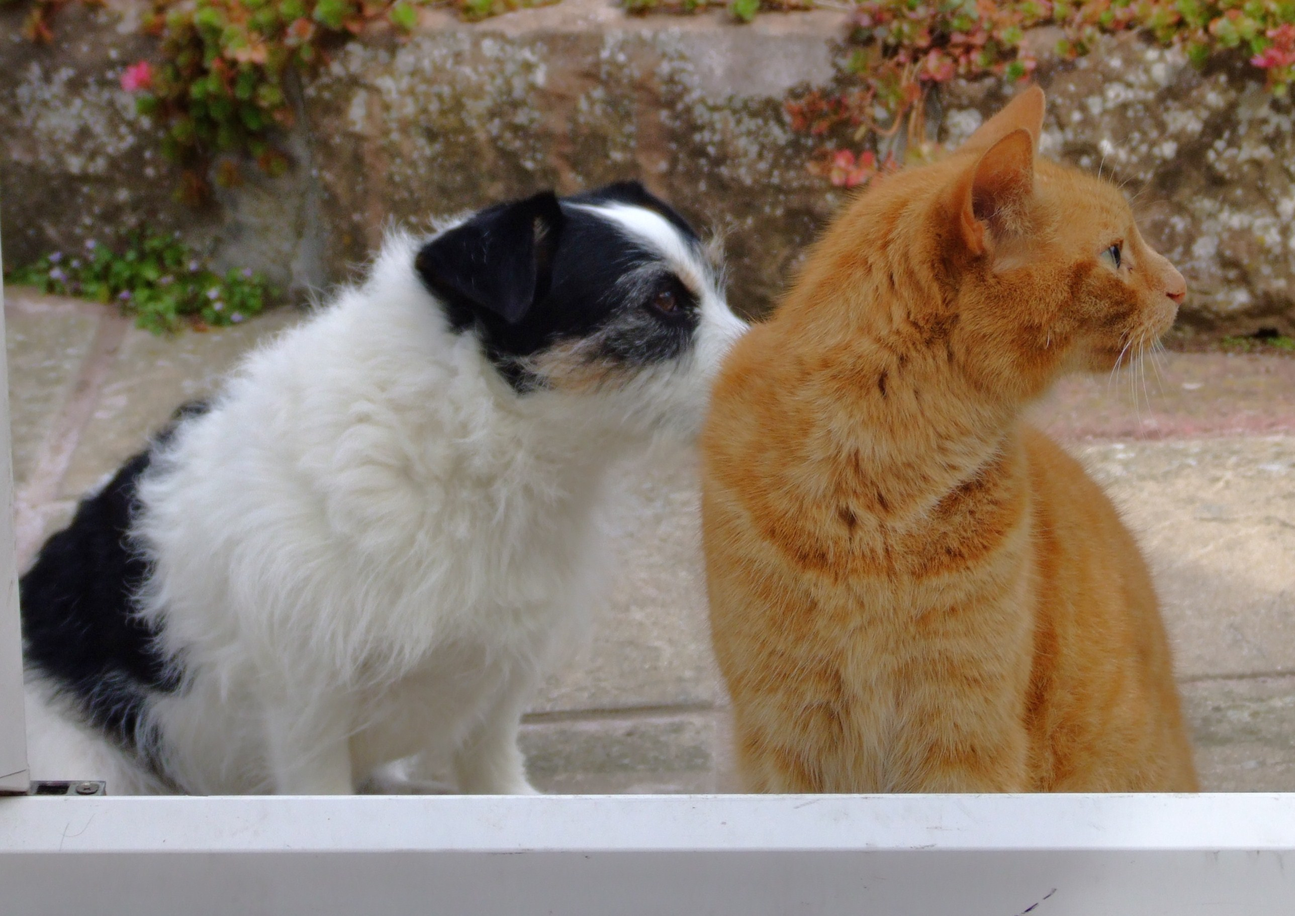cat: (698, 81, 1198, 794)
